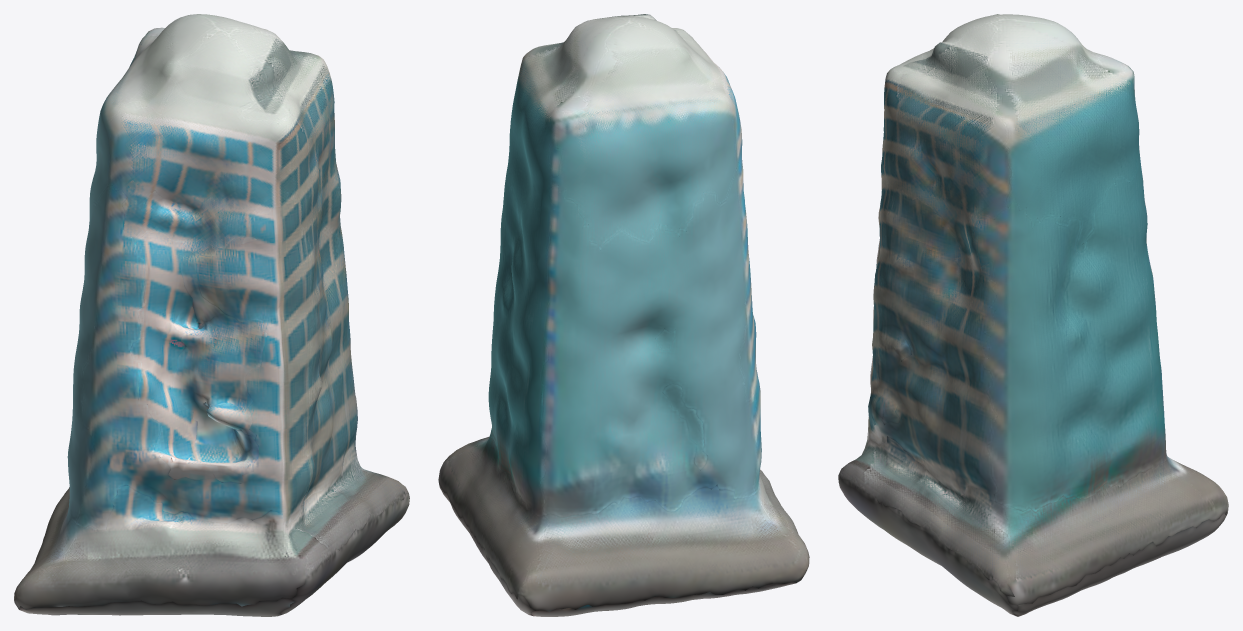
Rendered from 018bc720-d081-7614-afd6-820d5537f46f.glb.
3 views of the same model, side by side, from view 1: azimuth 30°, elevation 25°; view 2: azimuth 150°, elevation 25°; view 3: azimuth 270°, elevation 25° (orthographic). The views are drawn at different scales.
Parts seen in each view (by area): view 1: model.obj; view 2: model.obj; view 3: model.obj.
Boxes of the visible parts, box(x1,y1,x2,y2) form: model.obj: box(14, 14, 409, 616); model.obj: box(438, 14, 809, 616); model.obj: box(838, 14, 1228, 616).
Bounding box in the file's own units: 0.8116 × 1.12 × 0.7454.
1 material, 1 textured.
